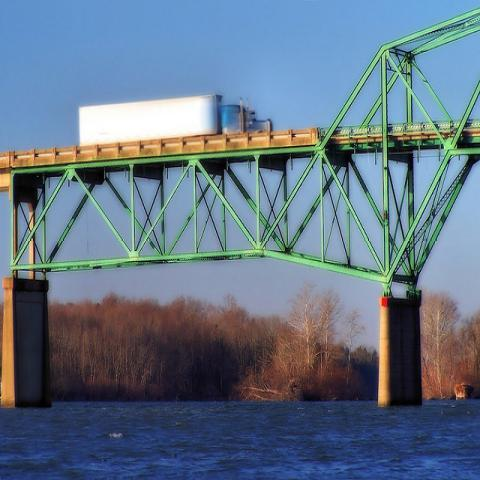truck: (75, 90, 276, 150)
